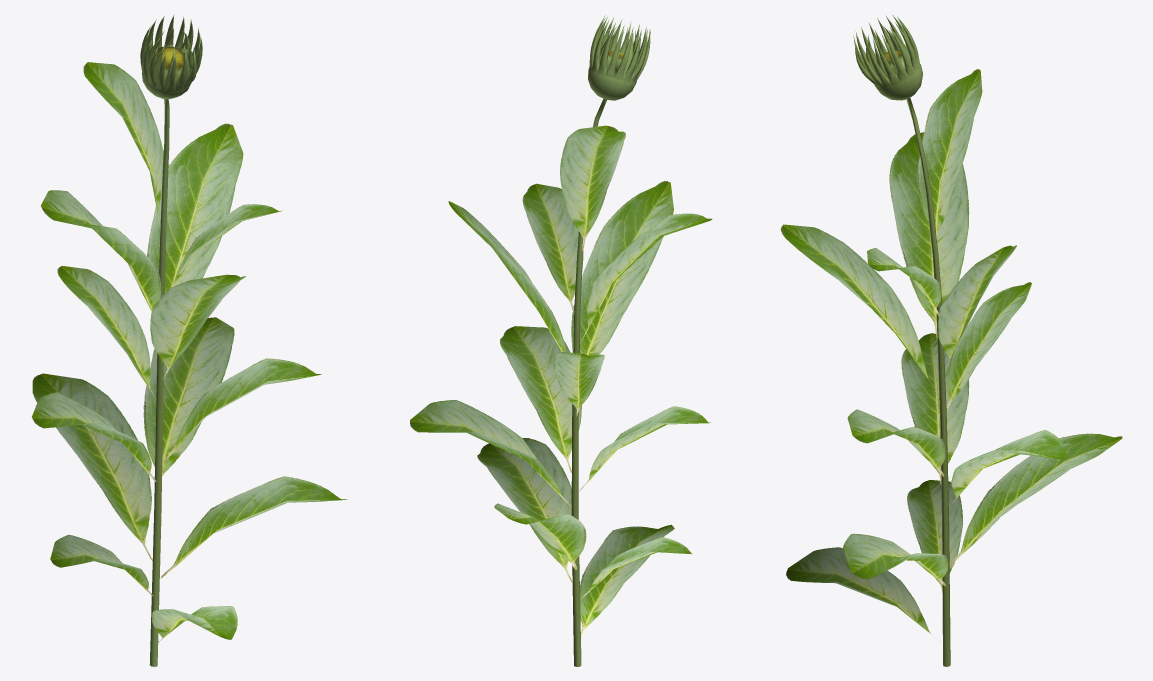
The model's file is SM_Plant_14.fbx.
The picture shows the model from 3 angles, left to right: view 1: azimuth 30°, elevation 25°; view 2: azimuth 150°, elevation 25°; view 3: azimuth 270°, elevation 25°; orthographic projection. The views are drawn at different scales.
Parts seen in each view (by area): view 1: SM_Plant_14; view 2: SM_Plant_14; view 3: SM_Plant_14.
Boxes of the visible parts, left/top/right/bottom form: SM_Plant_14: left=32, top=14, right=347, bottom=666; SM_Plant_14: left=410, top=15, right=712, bottom=666; SM_Plant_14: left=780, top=15, right=1122, bottom=666.
Size of the model in its own units: 48.7 by 53.99 by 101.
3 materials, 3 textured.
